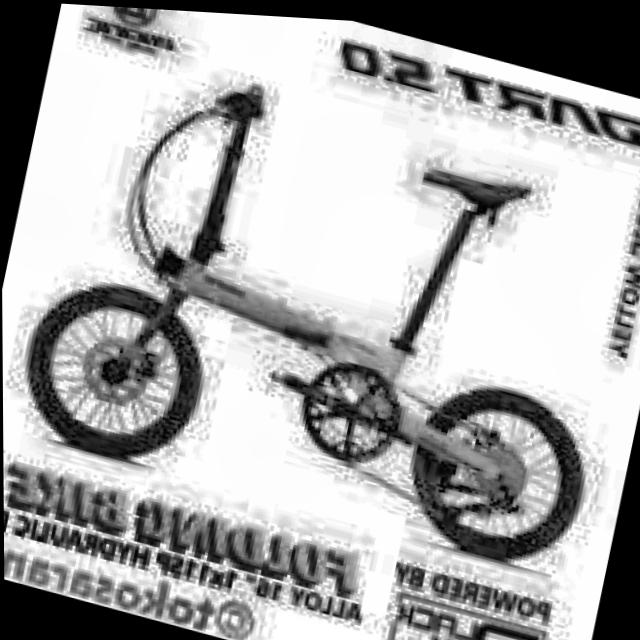bike: (4, 27, 640, 591)
